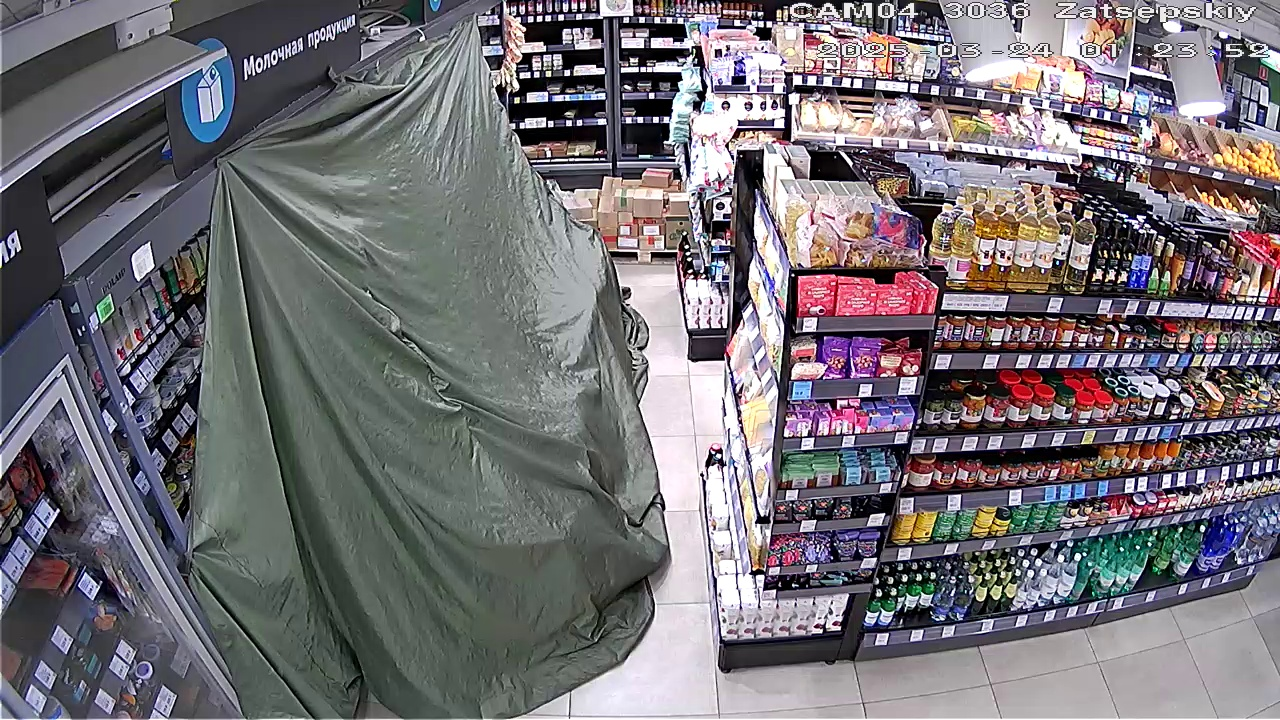dome: (185, 27, 657, 710)
pallet: (580, 162, 692, 265)
